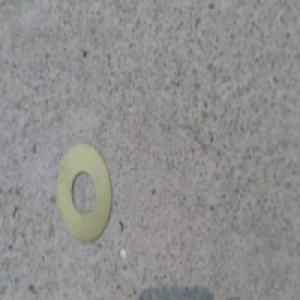Washer: (53, 138, 112, 241)
